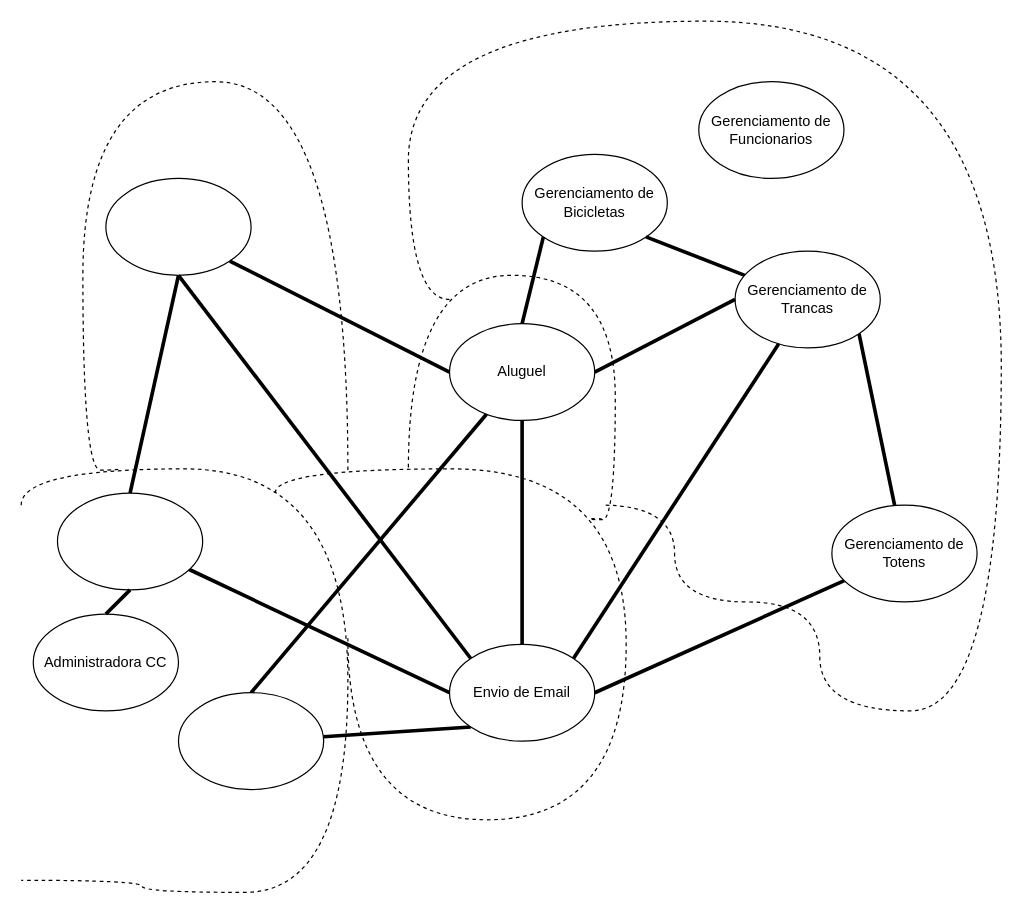
Image size: 1022x914. Some labels were removed from this diagram. Here are the shapes that lost their labels. From the top down, the box of each, then its label:
(105, 177, 251, 275): Gerenciamento de Ciclista
(56, 492, 203, 590): Gerenciamento de Cartão
(177, 692, 324, 790): Cobrança de Taxas Atrasadas
